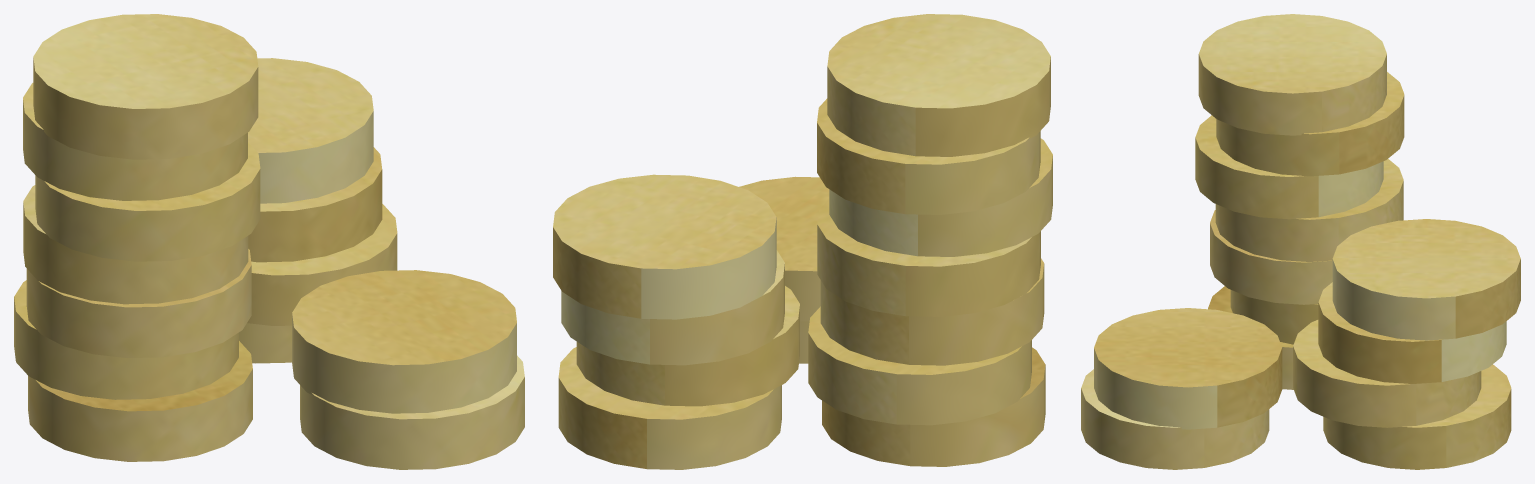
Rendered from coinz.fbx.
3 views of the same model, side by side, from view 1: azimuth 30°, elevation 25°; view 2: azimuth 150°, elevation 25°; view 3: azimuth 270°, elevation 25° (orthographic). The views are drawn at different scales.
Visible parts, largest first — view 1: pCylinder7, pCylinder13, pCylinder11, pCylinder1, pCylinder5, pCylinder12, pCylinder3, pCylinder4, pCylinder2, pCylinder6, pCylinder10, pCylinder9 (+1 smaller); view 2: pCylinder11, pCylinder7, pCylinder8, pCylinder4, pCylinder2, pCylinder6, pCylinder3, pCylinder10, pCylinder5, pCylinder1, pCylinder9, pCylinder13; view 3: pCylinder11, pCylinder7, pCylinder13, pCylinder9, pCylinder8, pCylinder5, pCylinder10, pCylinder6, pCylinder12, pCylinder4, pCylinder3, pCylinder2 (+1 smaller).
Boxes of the visible parts, <box> form: pCylinder7: <box>33,14,258,159</box>; pCylinder13: <box>292,270,516,413</box>; pCylinder11: <box>248,58,373,203</box>; pCylinder1: <box>28,341,252,461</box>; pCylinder5: <box>35,142,260,261</box>; pCylinder12: <box>300,355,524,469</box>; pCylinder3: <box>26,249,251,357</box>; pCylinder4: <box>23,185,248,304</box>; pCylinder2: <box>14,280,238,399</box>; pCylinder6: <box>23,83,247,200</box>; pCylinder10: <box>248,147,382,262</box>; pCylinder9: <box>247,204,397,325</box>; pCylinder11: <box>553,174,776,319</box>; pCylinder7: <box>827,14,1050,156</box>; pCylinder8: <box>558,347,781,469</box>; pCylinder4: <box>817,199,1040,316</box>; pCylinder2: <box>808,306,1031,425</box>; pCylinder6: <box>817,98,1040,214</box>; pCylinder3: <box>820,258,1044,365</box>; pCylinder10: <box>561,250,784,365</box>; pCylinder5: <box>829,138,1052,256</box>; pCylinder1: <box>822,347,1045,466</box>; pCylinder9: <box>576,286,799,406</box>; pCylinder13: <box>739,176,829,321</box>; pCylinder11: <box>1332,219,1520,340</box>; pCylinder7: <box>1198,14,1386,135</box>; pCylinder13: <box>1094,308,1282,429</box>; pCylinder9: <box>1293,320,1481,427</box>; pCylinder8: <box>1323,364,1511,469</box>; pCylinder5: <box>1195,115,1383,219</box>; pCylinder10: <box>1318,282,1506,383</box>; pCylinder6: <box>1216,72,1404,176</box>; pCylinder12: <box>1081,369,1269,469</box>; pCylinder4: <box>1215,159,1403,261</box>; pCylinder3: <box>1210,210,1332,304</box>; pCylinder2: <box>1230,290,1318,344</box>.
Bounding box in the file's own units: 4 × 3.48 × 4.67.
